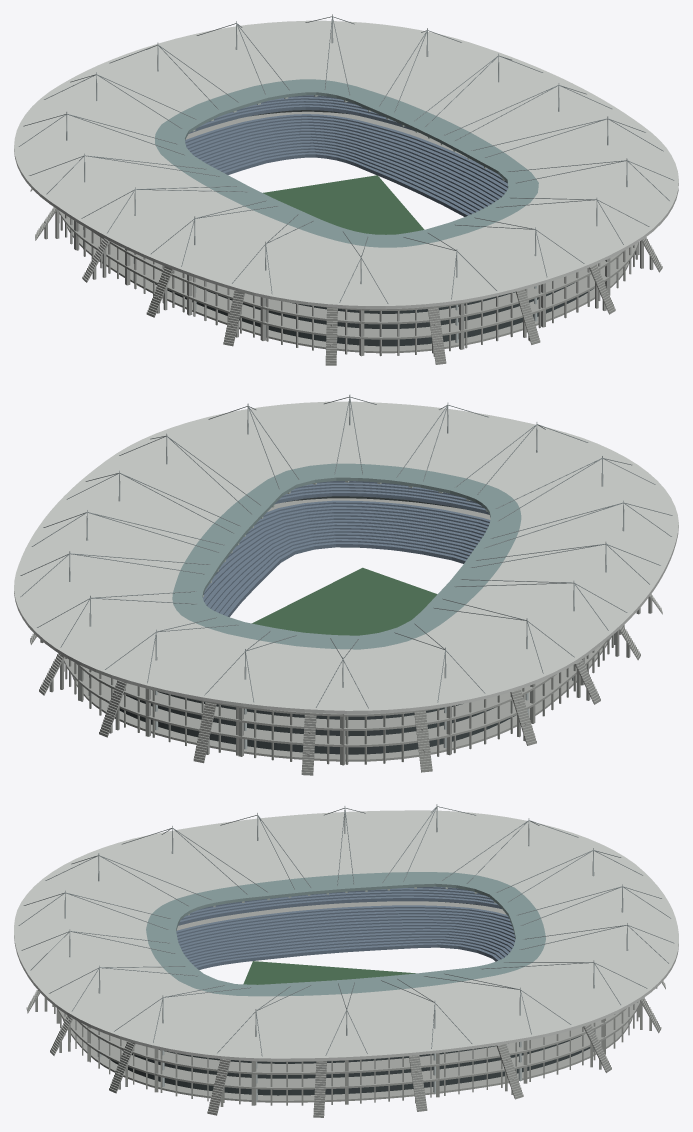
File: stade-de-france-near.glb
3 renders of one model, top to bottom at view 1: azimuth 30°, elevation 25°; view 2: azimuth 150°, elevation 25°; view 3: azimuth 270°, elevation 25°, orthographic. The views are drawn at different scales.
Parts seen in each view (by area): view 1: stade-de-france-0-roof, stade-de-france-0-concrete, stade-de-france-0-seats, stade-de-france-0-glazing, stade-de-france-0-stay, stade-de-france-0-field, stade-de-france-0-recess, stade-de-france-0-mast; view 2: stade-de-france-0-roof, stade-de-france-0-concrete, stade-de-france-0-glazing, stade-de-france-0-seats, stade-de-france-0-field, stade-de-france-0-stay, stade-de-france-0-recess, stade-de-france-0-mast; view 3: stade-de-france-0-roof, stade-de-france-0-concrete, stade-de-france-0-seats, stade-de-france-0-glazing, stade-de-france-0-stay, stade-de-france-0-recess, stade-de-france-0-field, stade-de-france-0-mast.
Part boxes in pixels (x1,y1,x2,y2): stade-de-france-0-roof: (14, 20, 678, 309); stade-de-france-0-concrete: (30, 111, 662, 365); stade-de-france-0-seats: (185, 95, 507, 216); stade-de-france-0-glazing: (155, 79, 538, 247); stade-de-france-0-stay: (18, 16, 674, 303); stade-de-france-0-field: (263, 175, 424, 234); stade-de-france-0-recess: (150, 110, 594, 346); stade-de-france-0-mast: (66, 14, 627, 342); stade-de-france-0-roof: (14, 401, 678, 713); stade-de-france-0-concrete: (30, 498, 662, 775); stade-de-france-0-glazing: (172, 463, 521, 649); stade-de-france-0-seats: (203, 481, 490, 617); stade-de-france-0-field: (252, 567, 437, 635); stade-de-france-0-stay: (20, 397, 672, 708); stade-de-france-0-recess: (108, 496, 516, 754); stade-de-france-0-mast: (69, 394, 624, 749); stade-de-france-0-roof: (14, 810, 678, 1061); stade-de-france-0-concrete: (26, 901, 665, 1117); stade-de-france-0-seats: (176, 886, 515, 969); stade-de-france-0-glazing: (146, 872, 545, 996); stade-de-france-0-stay: (18, 806, 674, 1056); stade-de-france-0-recess: (108, 902, 590, 1095); stade-de-france-0-field: (243, 961, 415, 984); stade-de-france-0-mast: (64, 804, 628, 1102).
Bounding box in the file's own units: 286 × 50 × 324.
